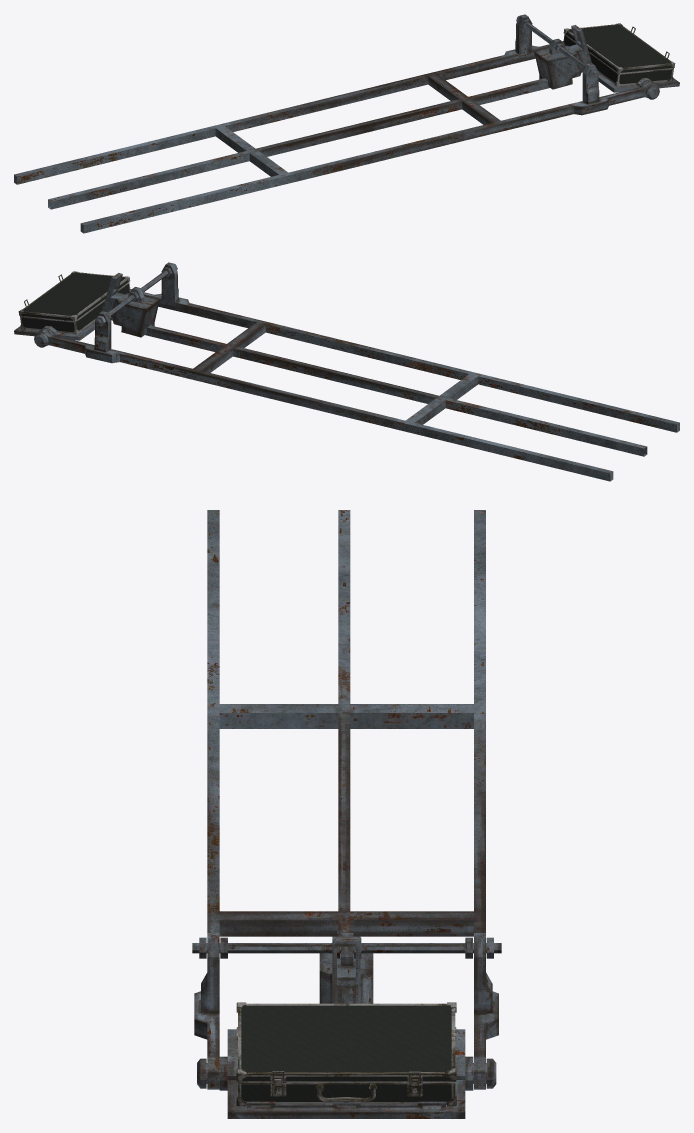
The model's file is briefcase machine1.glb.
3 views of the same model, one above another, from view 1: azimuth 30°, elevation 25°; view 2: azimuth 150°, elevation 25°; view 3: azimuth 270°, elevation 25° (orthographic). The views are drawn at different scales.
Parts seen in each view (by area): view 1: Plane_008, briefcase hinge, briefcase parent in vehicle, Plane_005; view 2: Plane_008, briefcase hinge, briefcase parent in vehicle, Plane_005; view 3: Plane_008, briefcase hinge, Plane_005, briefcase parent in vehicle.
Boxes of the visible parts, box(x1,y1,x2,y2) form: Plane_008: box(14, 14, 659, 233); briefcase hinge: box(563, 23, 675, 73); briefcase parent in vehicle: box(562, 34, 673, 86); Plane_005: box(598, 73, 679, 92); Plane_008: box(34, 262, 679, 481); briefcase hinge: box(18, 271, 130, 321); briefcase parent in vehicle: box(20, 282, 130, 334); Plane_005: box(14, 321, 94, 340); Plane_008: box(192, 510, 501, 1090); briefcase hinge: box(236, 1002, 456, 1085); Plane_005: box(227, 1029, 465, 1118); briefcase parent in vehicle: box(236, 1027, 456, 1106).
Size of the model in its own units: 42.9 by 3.8 by 9.53.
5 materials, 5 textured.
